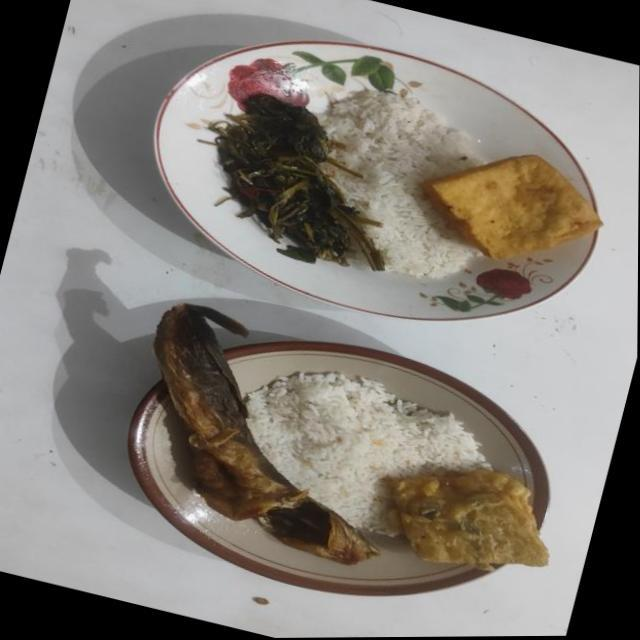nasi_putih: (246, 371, 492, 536), (316, 92, 479, 278)
tahu_goreng: (422, 154, 602, 258)
tumis_kangkung: (208, 94, 384, 270)
